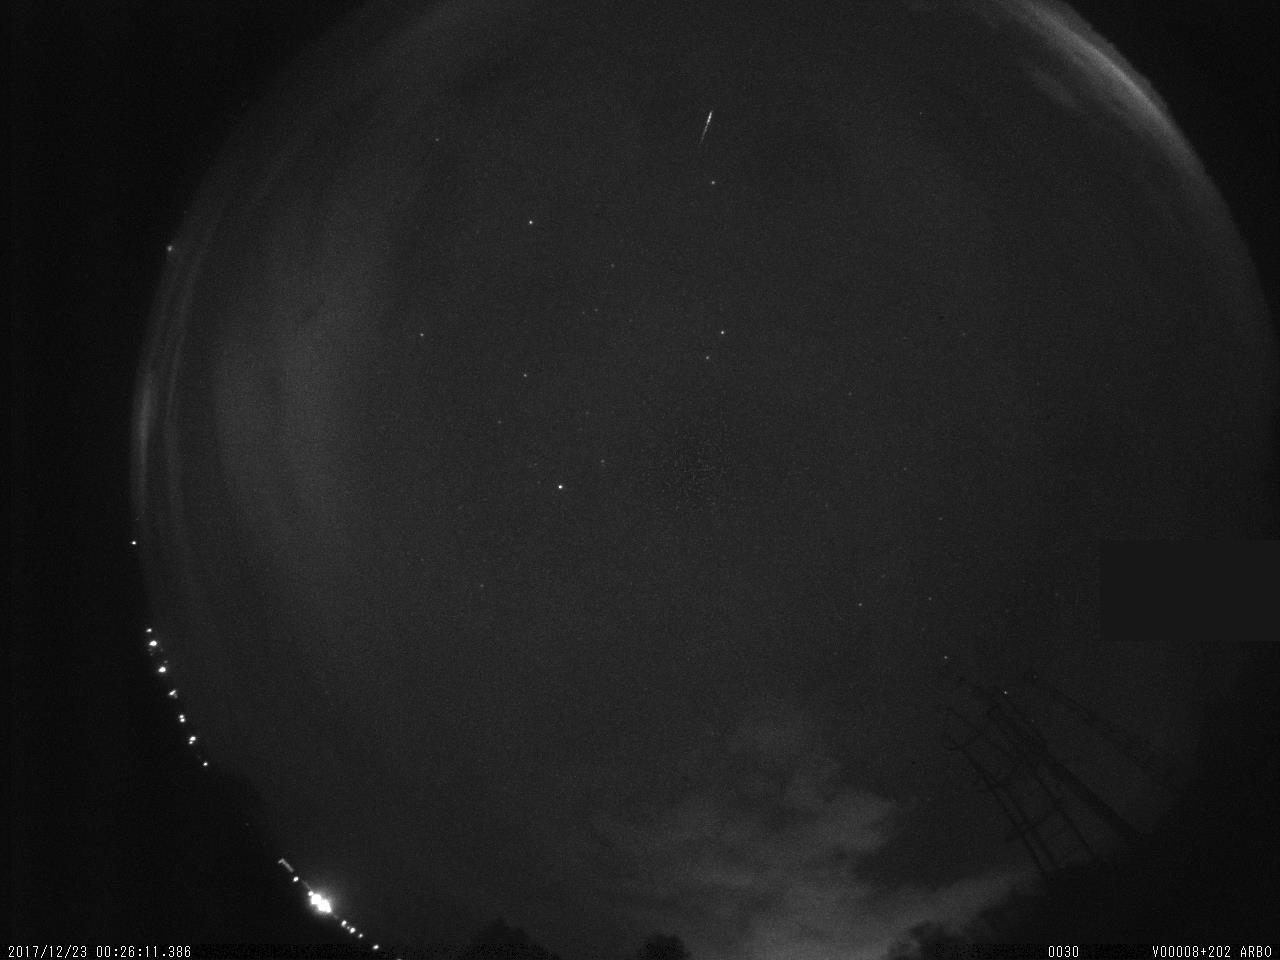meteor: (685, 107, 724, 144)
